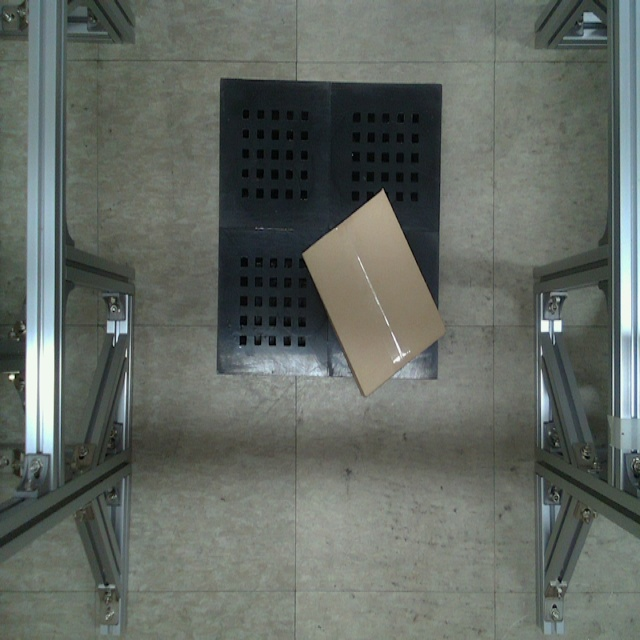box: (303, 188, 445, 397)
pallet: (212, 73, 446, 385)
